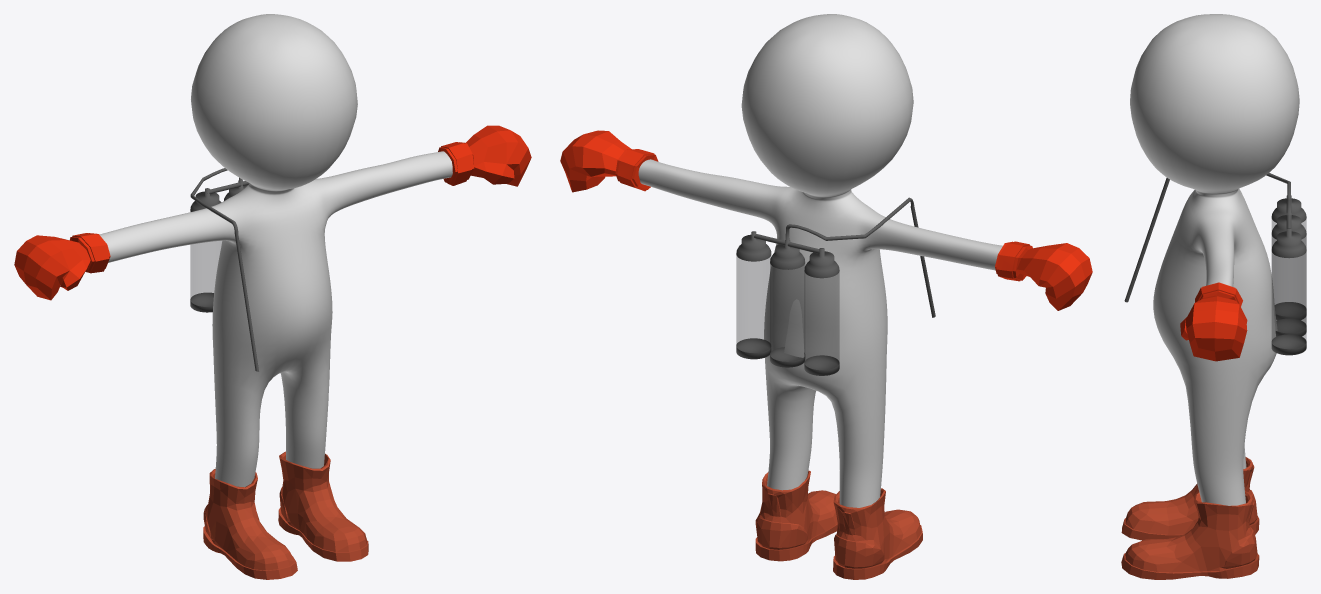
The model's file is Character_ELemental.fbx.
3 renders of one model, left to right at view 1: azimuth 30°, elevation 25°; view 2: azimuth 150°, elevation 25°; view 3: azimuth 270°, elevation 25°, orthographic. The views are drawn at different scales.
Visible parts, largest first — view 1: Turbo-BotOBJ, Cylinder.003; view 2: Turbo-BotOBJ, Cylinder.003; view 3: Turbo-BotOBJ, Cylinder.003.
Boxes of the visible parts, x1,y1,x2,y2 form: Turbo-BotOBJ: [14, 14, 531, 579]; Cylinder.003: [190, 168, 258, 371]; Turbo-BotOBJ: [560, 14, 1092, 579]; Cylinder.003: [736, 197, 935, 375]; Turbo-BotOBJ: [1121, 14, 1299, 579]; Cylinder.003: [1124, 173, 1306, 355].
Size of the model in its own units: 4812 by 4731 by 1505.
